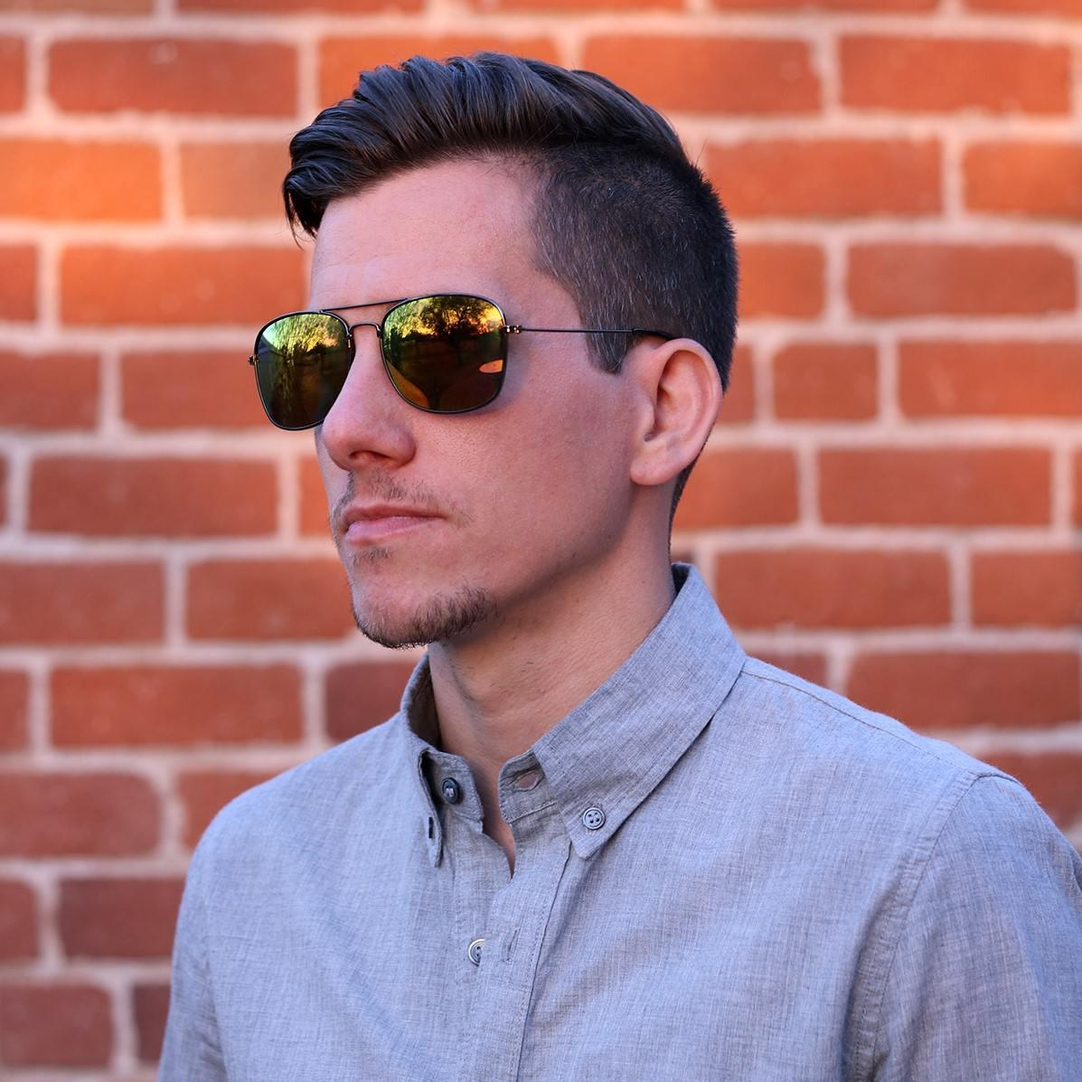sunglasses: (235, 280, 531, 449)
